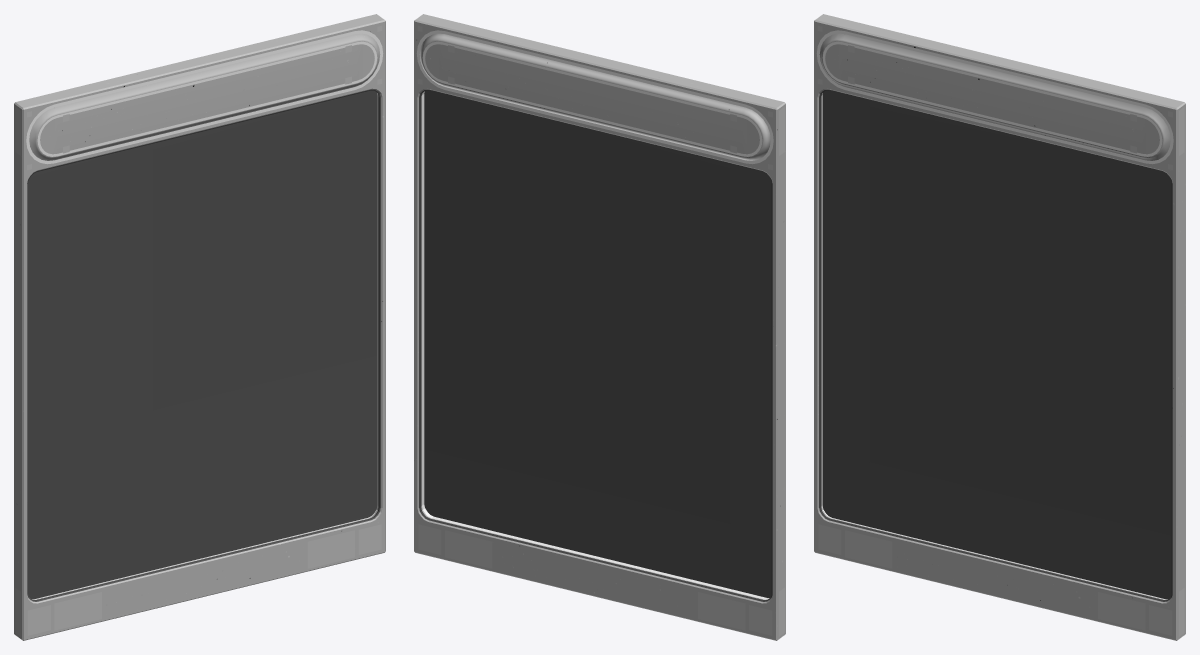
File: SM_Modular_IndoorWallWindow_3_Merged.fbx
3 renders of one model, left to right at view 1: azimuth 30°, elevation 25°; view 2: azimuth 150°, elevation 25°; view 3: azimuth 330°, elevation 25°, orthographic.
Parts seen in each view (by area): view 1: SM_Modular_IndoorWallWindow_3_Merged_LOD0; view 2: SM_Modular_IndoorWallWindow_3_Merged_LOD0; view 3: SM_Modular_IndoorWallWindow_3_Merged_LOD0.
Boxes of the visible parts, x1,y1,x2,y2 form: SM_Modular_IndoorWallWindow_3_Merged_LOD0: [14, 14, 385, 640]; SM_Modular_IndoorWallWindow_3_Merged_LOD0: [414, 14, 785, 640]; SM_Modular_IndoorWallWindow_3_Merged_LOD0: [814, 14, 1185, 640].
Bounding box in the file's own units: 250 × 17.92 × 350.
